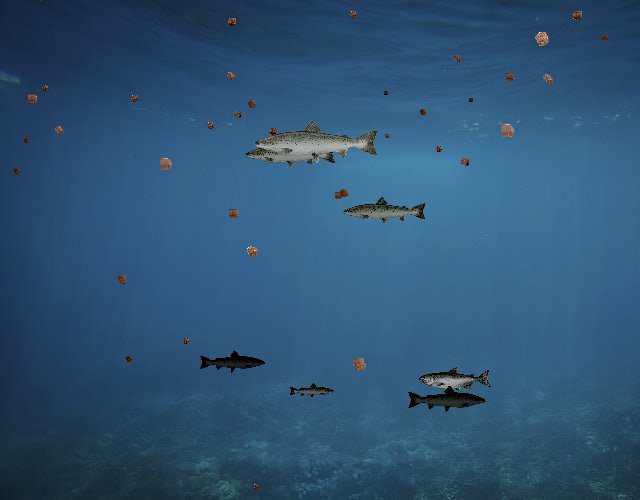Fish: (252, 118, 381, 164), (244, 137, 338, 171), (342, 195, 428, 226), (407, 385, 488, 414), (420, 366, 493, 393), (198, 349, 266, 374), (288, 382, 335, 399)
Pellet: (240, 239, 265, 264), (345, 6, 362, 23), (178, 334, 193, 349), (122, 352, 136, 366), (432, 142, 446, 156), (38, 81, 52, 95), (250, 481, 262, 493)
